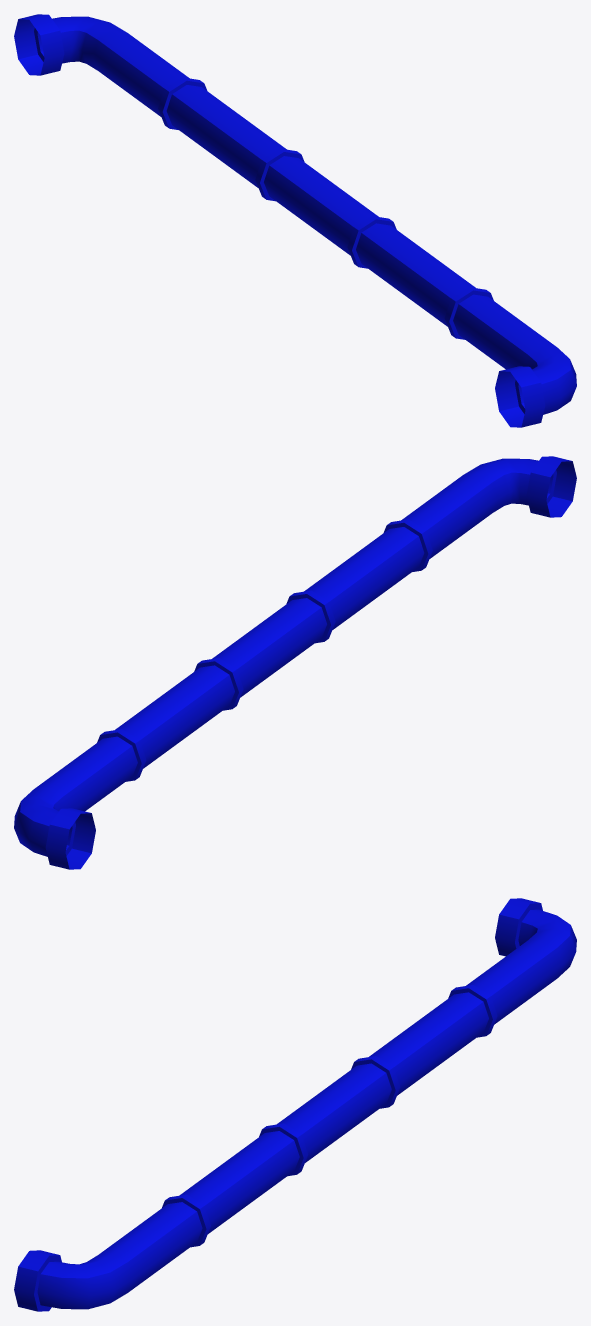
The model's file is SM_VALVE_CANO_04.fbx.
The picture shows the model from 3 angles, top to bottom: view 1: azimuth 30°, elevation 25°; view 2: azimuth 150°, elevation 25°; view 3: azimuth 330°, elevation 25°; orthographic projection.
Parts seen in each view (by area): view 1: SM_VALVE_CANO_04; view 2: SM_VALVE_CANO_04; view 3: SM_VALVE_CANO_04.
Boxes of the visible parts, bbox=[...] form: SM_VALVE_CANO_04: bbox=[14, 14, 576, 427]; SM_VALVE_CANO_04: bbox=[14, 456, 576, 869]; SM_VALVE_CANO_04: bbox=[14, 898, 576, 1311].
Size of the model in its own units: 0.5576 by 0.3586 by 6.
